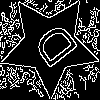D: (24, 20, 80, 76)
